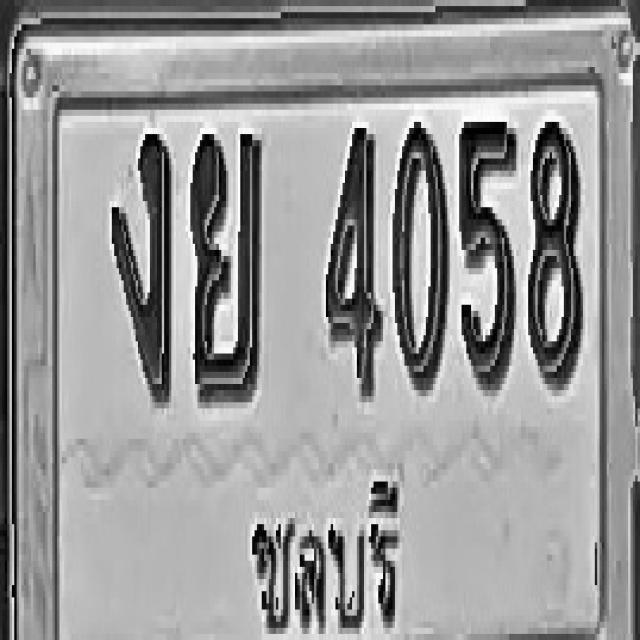0: (392, 119, 448, 393)
16NgorNgu: (110, 128, 172, 402)
4: (325, 122, 382, 396)
43YorYak: (189, 128, 263, 402)
5: (459, 113, 516, 393)
8: (527, 116, 582, 390)
Chonburi: (240, 463, 407, 640)
